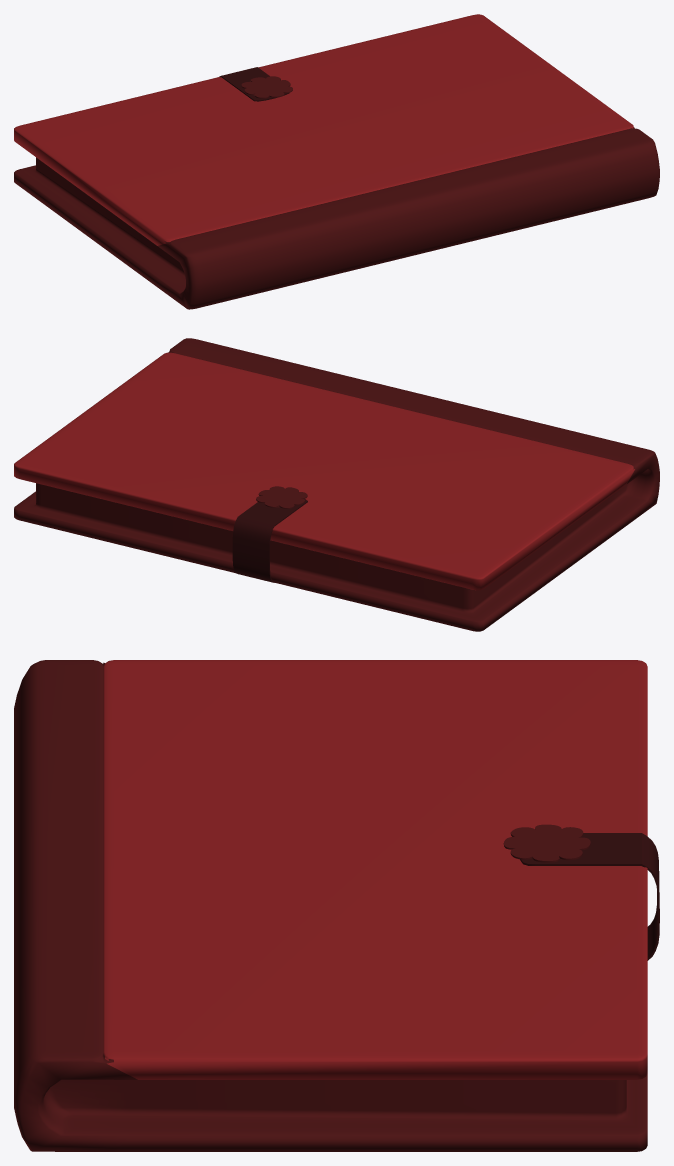
File: Diario.fbx
3 views of the same model, one above another, from view 1: azimuth 30°, elevation 25°; view 2: azimuth 150°, elevation 25°; view 3: azimuth 270°, elevation 25° (orthographic). The views are drawn at different scales.
Parts seen in each view (by area): view 1: Cube; view 2: Cube; view 3: Cube.
Boxes of the visible parts, left/top/right/bottom form: Cube: left=14, top=14, right=659, bottom=309; Cube: left=14, top=338, right=659, bottom=631; Cube: left=14, top=660, right=659, bottom=1151.
Bounding box in the file's own units: 200 × 24.97 × 137.
1 material, 1 textured.
